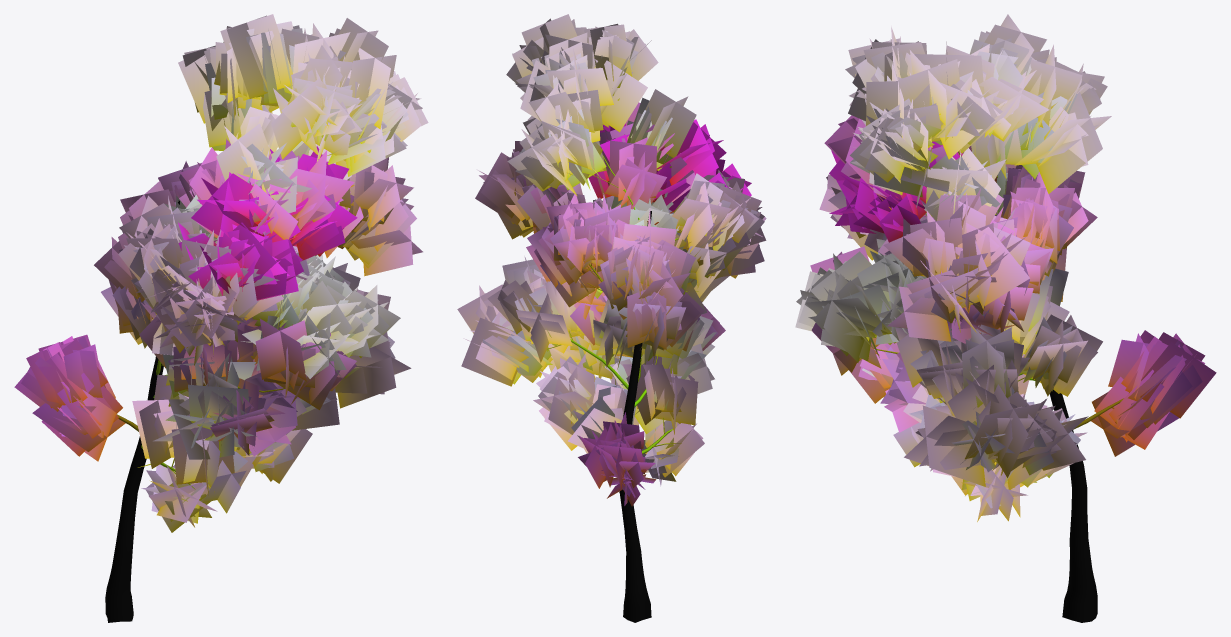
The model's file is tree_pine_c.glb.
3 views of the same model, side by side, from view 1: azimuth 30°, elevation 25°; view 2: azimuth 150°, elevation 25°; view 3: azimuth 270°, elevation 25° (orthographic). The views are drawn at different scales.
Visible parts, largest first — view 1: tree_pine_c; view 2: tree_pine_c; view 3: tree_pine_c.
Part boxes in pixels (x1,y1,x2,y2): tree_pine_c: [14, 14, 428, 622]; tree_pine_c: [457, 14, 766, 622]; tree_pine_c: [795, 14, 1216, 622].
Size of the model in its own units: 6.31 by 12.04 by 7.05.
